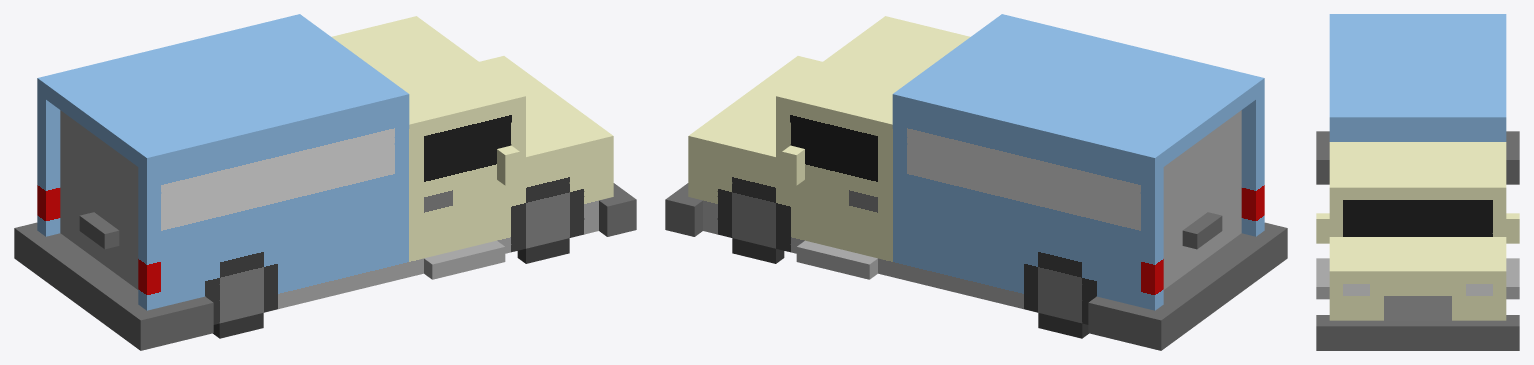
File: veh_truck2.fbx
3 renders of one model, left to right at view 1: azimuth 30°, elevation 25°; view 2: azimuth 150°, elevation 25°; view 3: azimuth 270°, elevation 25°, orthographic. The views are drawn at different scales.
Visible parts, largest first — view 1: veh_truck2; view 2: veh_truck2; view 3: veh_truck2.
Boxes of the visible parts, bbox=[...] form: veh_truck2: bbox=[14, 14, 636, 350]; veh_truck2: bbox=[665, 14, 1287, 350]; veh_truck2: bbox=[1316, 14, 1519, 350].
Size of the model in its own units: 3.4 by 1.5 by 1.3.
Materials: 1 (1 with a texture image).
